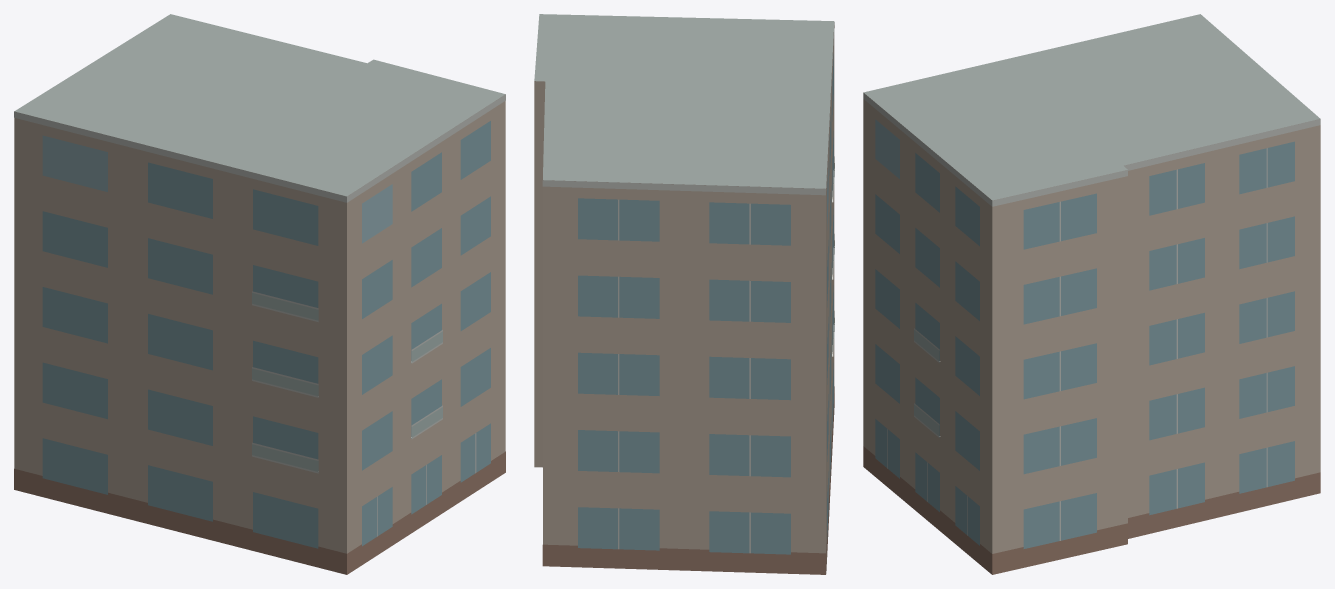
Rendered from survey-upis-32746792.glb.
The picture shows the model from 3 angles, left to right: view 1: azimuth 30°, elevation 25°; view 2: azimuth 150°, elevation 25°; view 3: azimuth 270°, elevation 25°; orthographic projection. The views are drawn at different scales.
Parts seen in each view (by area): view 1: survey-upis-32746792.tmp; view 2: survey-upis-32746792.tmp; view 3: survey-upis-32746792.tmp.
Boxes of the visible parts, left/top/right/bottom form: survey-upis-32746792.tmp: left=14, top=14, right=505, bottom=574; survey-upis-32746792.tmp: left=534, top=14, right=834, bottom=574; survey-upis-32746792.tmp: left=863, top=14, right=1320, bottom=574.
Bounding box in the file's own units: 15.5 × 14.5 × 16.06.
